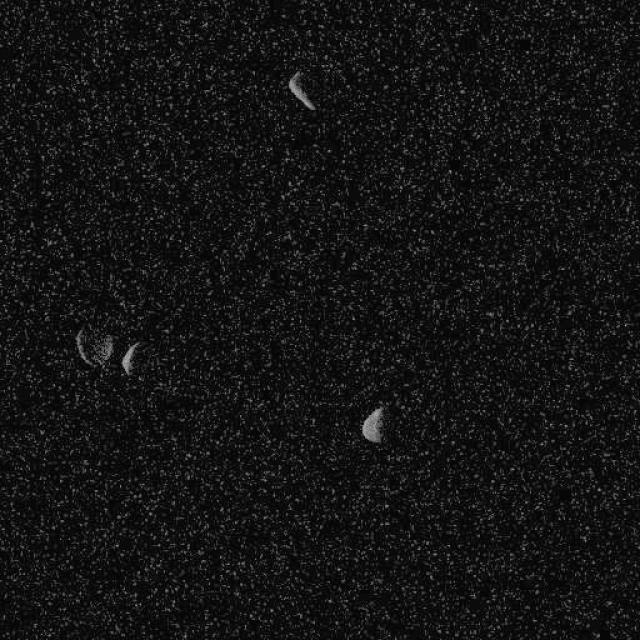D2: (74, 323, 115, 368), (286, 69, 316, 111), (360, 405, 385, 444), (120, 339, 146, 376)
